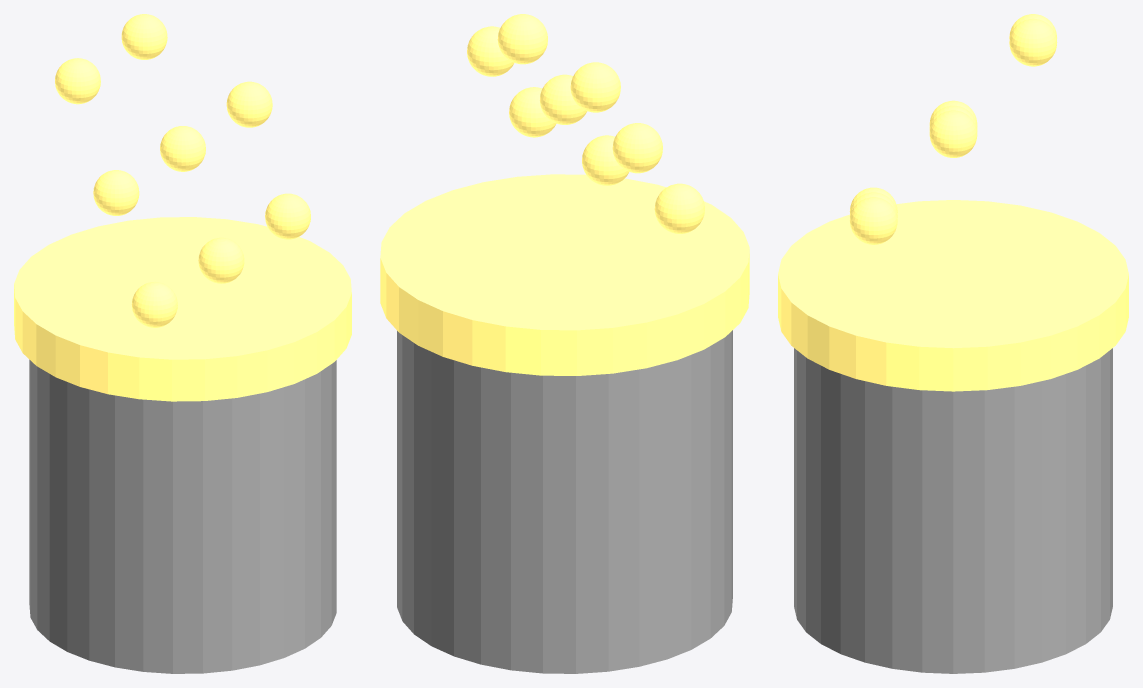
Rendered from golden_powder.glb.
The picture shows the model from 3 angles, left to right: view 1: azimuth 30°, elevation 25°; view 2: azimuth 150°, elevation 25°; view 3: azimuth 270°, elevation 25°; orthographic projection. The views are drawn at different scales.
Visible parts, largest first — view 1: Cylinder, Cylinder.001, Sphere.001, Sphere.003, Sphere.007, Sphere.005, Sphere.002, Sphere.006, Sphere, Sphere.004; view 2: Cylinder, Cylinder.001, Sphere.006, Sphere, Sphere.003, Sphere.007, Sphere.005, Sphere.002, Sphere.001, Sphere.004; view 3: Cylinder, Cylinder.001, Sphere.005, Sphere.002, Sphere.007.
Part boxes in pixels (x1,y1,x2,y2): Cylinder: [29, 359, 336, 673]; Cylinder.001: [14, 217, 351, 401]; Sphere.001: [198, 237, 244, 283]; Sphere.003: [93, 170, 139, 215]; Sphere.007: [121, 14, 167, 59]; Sphere.005: [226, 81, 272, 127]; Sphere.002: [265, 193, 310, 239]; Sphere.006: [55, 58, 100, 104]; Sphere: [131, 281, 177, 327]; Sphere.004: [160, 126, 205, 171]; Cylinder: [397, 330, 732, 673]; Cylinder.001: [380, 174, 749, 375]; Sphere.006: [570, 62, 620, 112]; Sphere: [654, 183, 704, 233]; Sphere.003: [612, 123, 662, 173]; Sphere.007: [497, 14, 547, 64]; Sphere.005: [467, 26, 514, 76]; Sphere.002: [509, 87, 556, 137]; Sphere.001: [582, 135, 628, 185]; Sphere.004: [540, 74, 587, 124]; Cylinder: [794, 348, 1112, 673]; Cylinder.001: [778, 200, 1128, 391]; Sphere.005: [929, 110, 977, 157]; Sphere.002: [850, 197, 897, 244]; Sphere.007: [1009, 18, 1057, 66].
Size of the model in its own units: 0.22 by 0.405 by 0.22.
